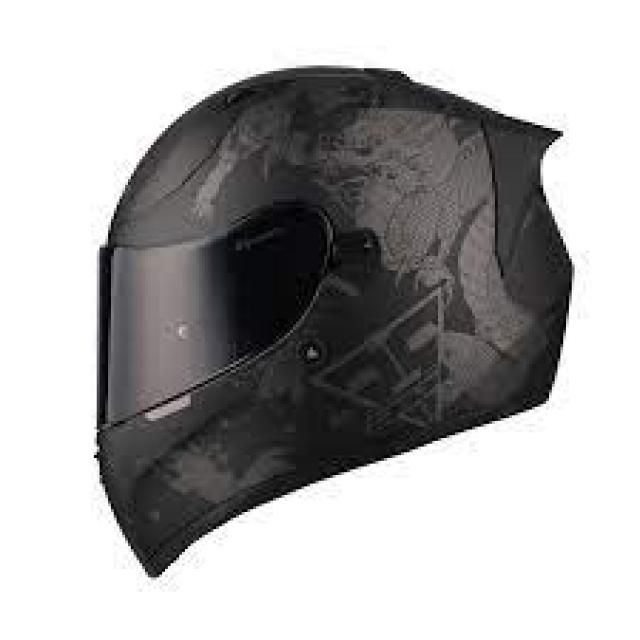Helmet: (99, 68, 571, 574)
